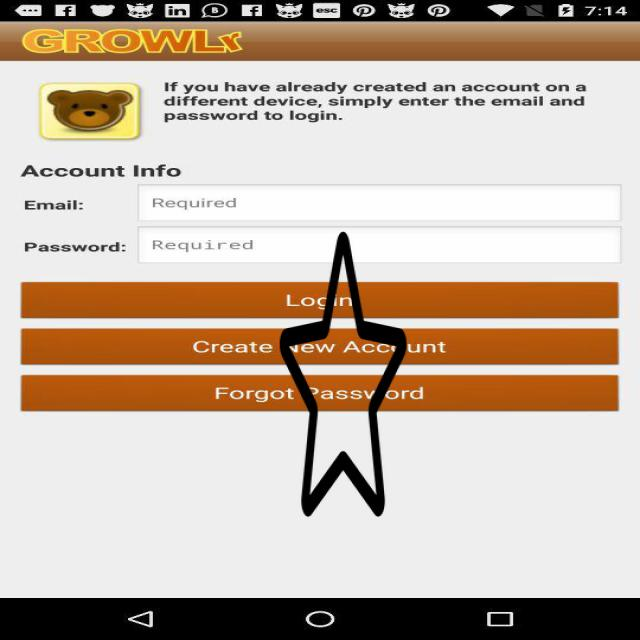forced continuity: (279, 225, 406, 523)
